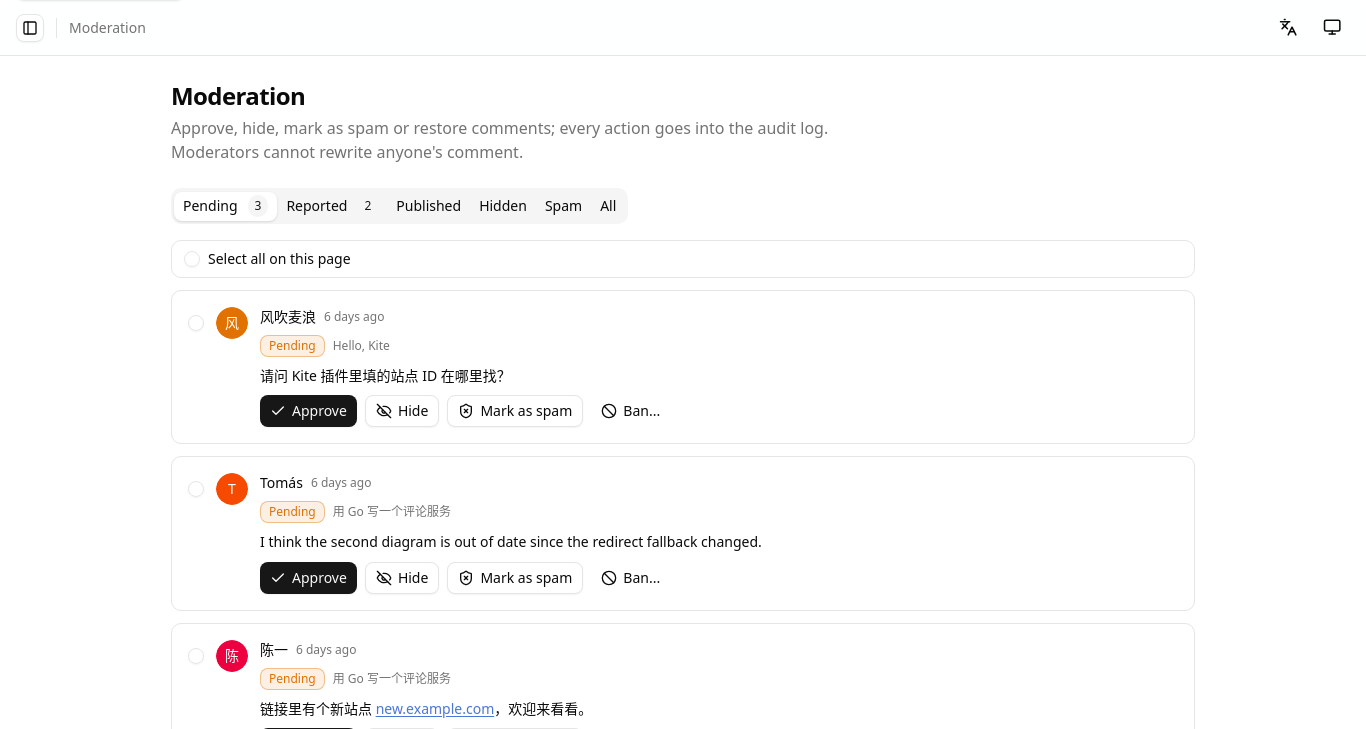
Scenario: moderation › marks selected comments as spam in bulk
This screenshot has width=1366, height=729.
Click the checkbox named "Select all on this page" at (192, 259), box [184,251,200,267]
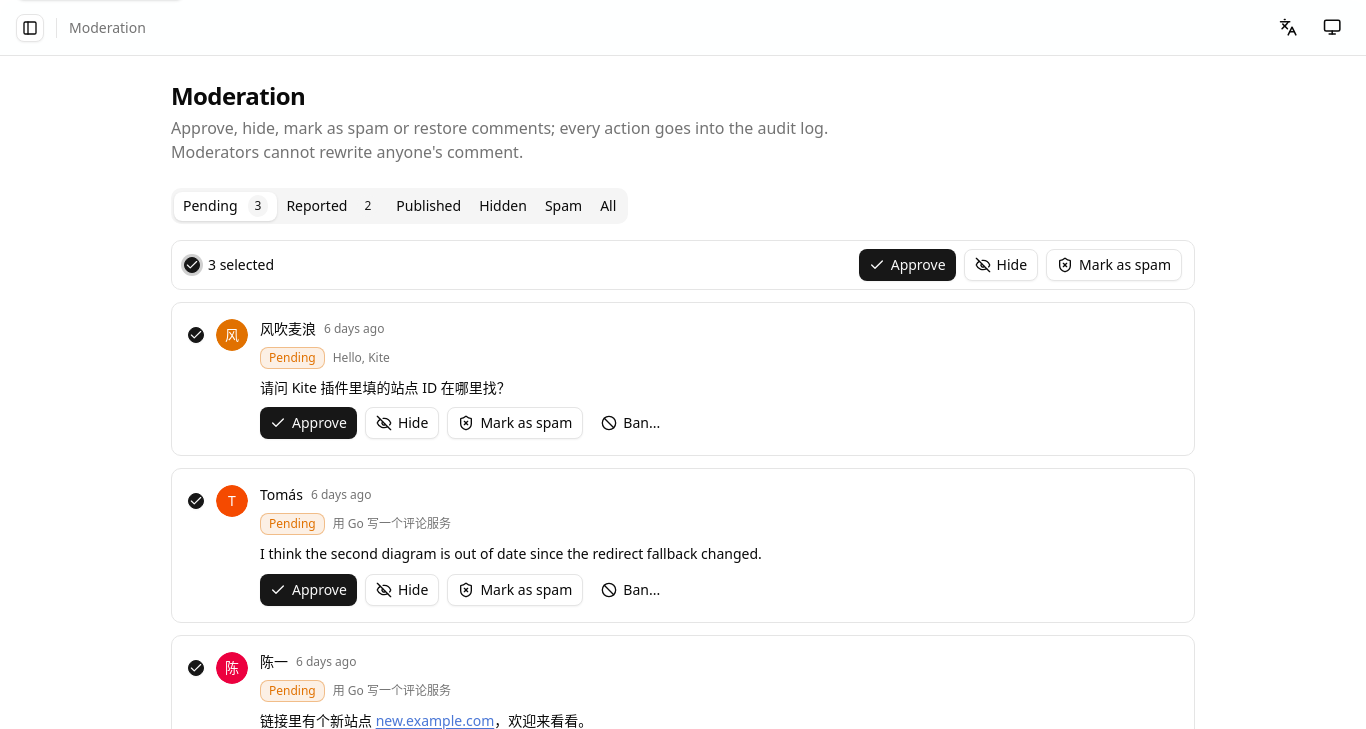
Now the text "3 selected" is shown, box [208,255,274,275]
Click the button "Mark as spam" in the row of "3 selected" at (1114, 265), box [1046,249,1182,281]
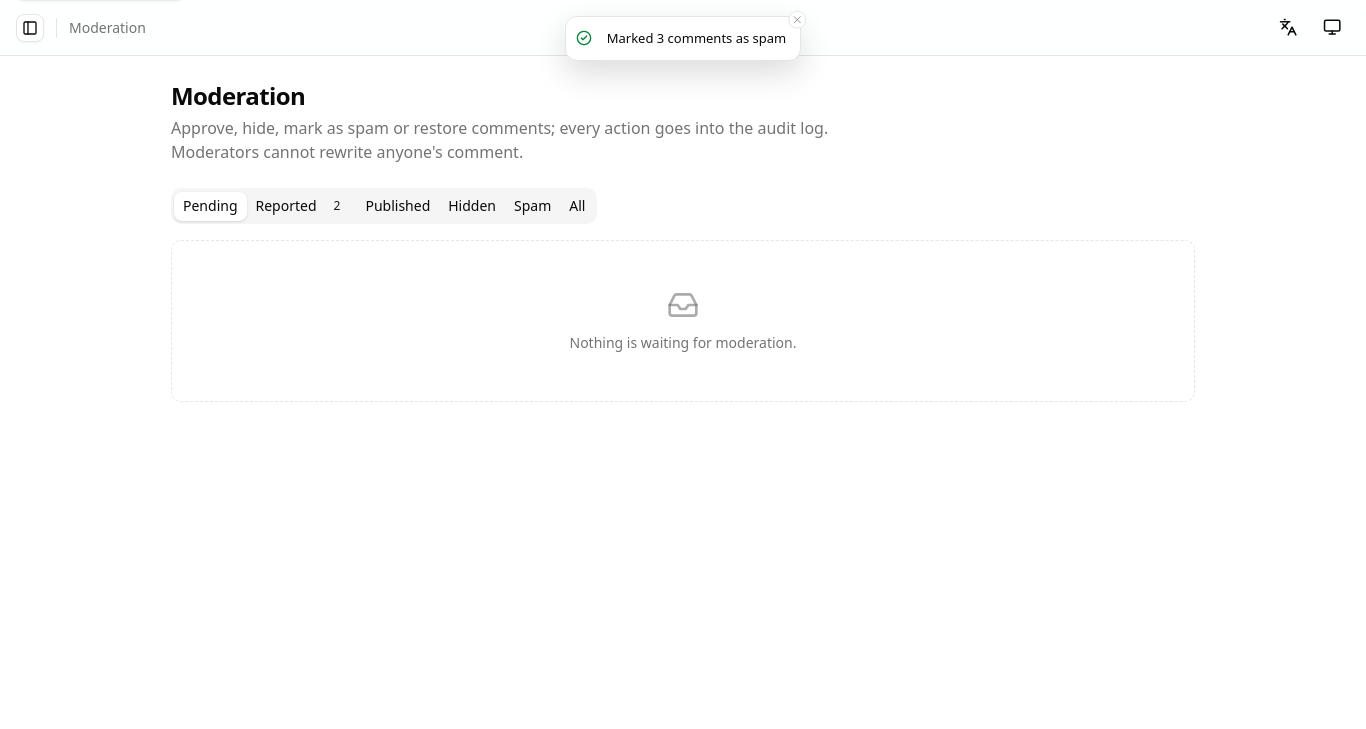
Now the text "Nothing is waiting for moderation." is shown, box [570,333,796,353]
